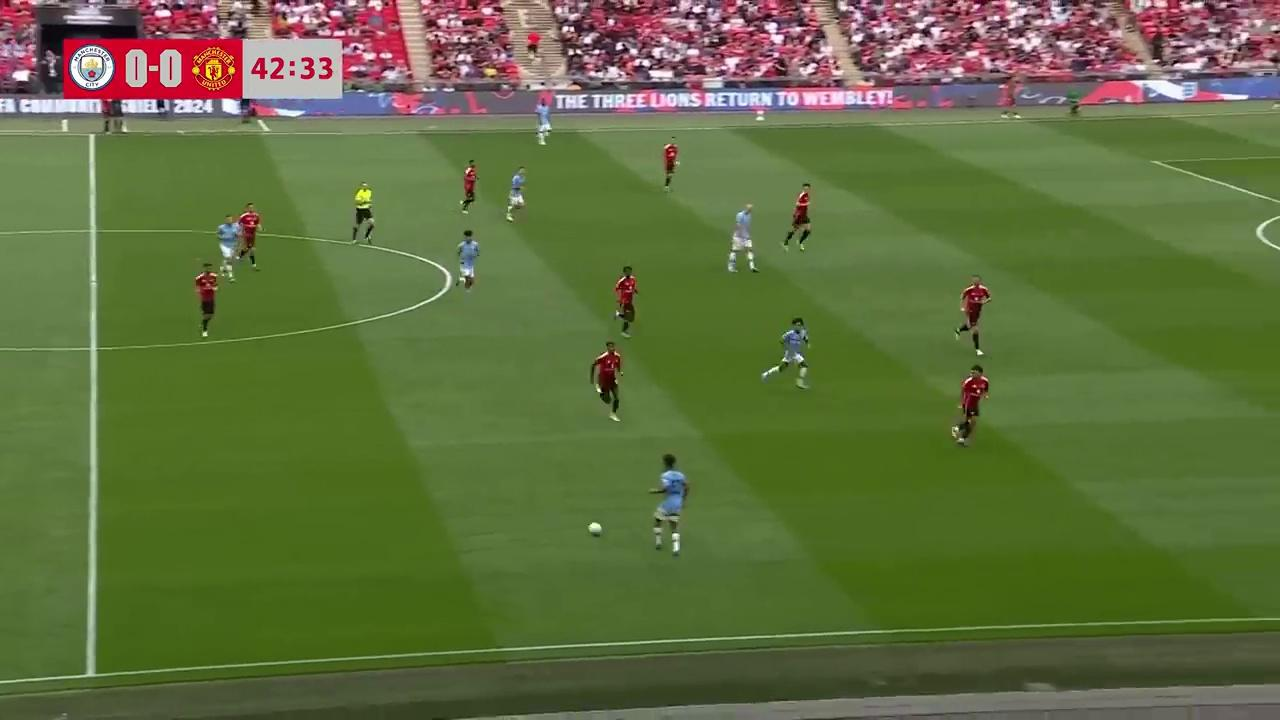ball: (586, 518, 603, 536)
player: (648, 453, 690, 555), (763, 317, 810, 390), (951, 364, 989, 446), (954, 275, 990, 354), (590, 341, 623, 422), (726, 202, 758, 273), (193, 261, 220, 338), (782, 183, 812, 251), (236, 202, 263, 270), (614, 265, 639, 337), (215, 214, 240, 282), (456, 229, 480, 293), (506, 165, 527, 222), (661, 140, 679, 192), (461, 159, 478, 214), (535, 101, 553, 145)
referee: (351, 181, 375, 245), (100, 93, 126, 137)
